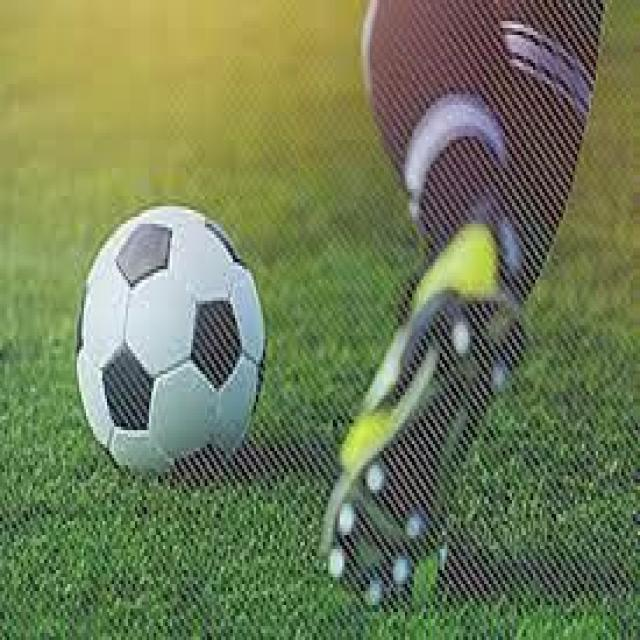Soccer Ball: (77, 196, 260, 468)
